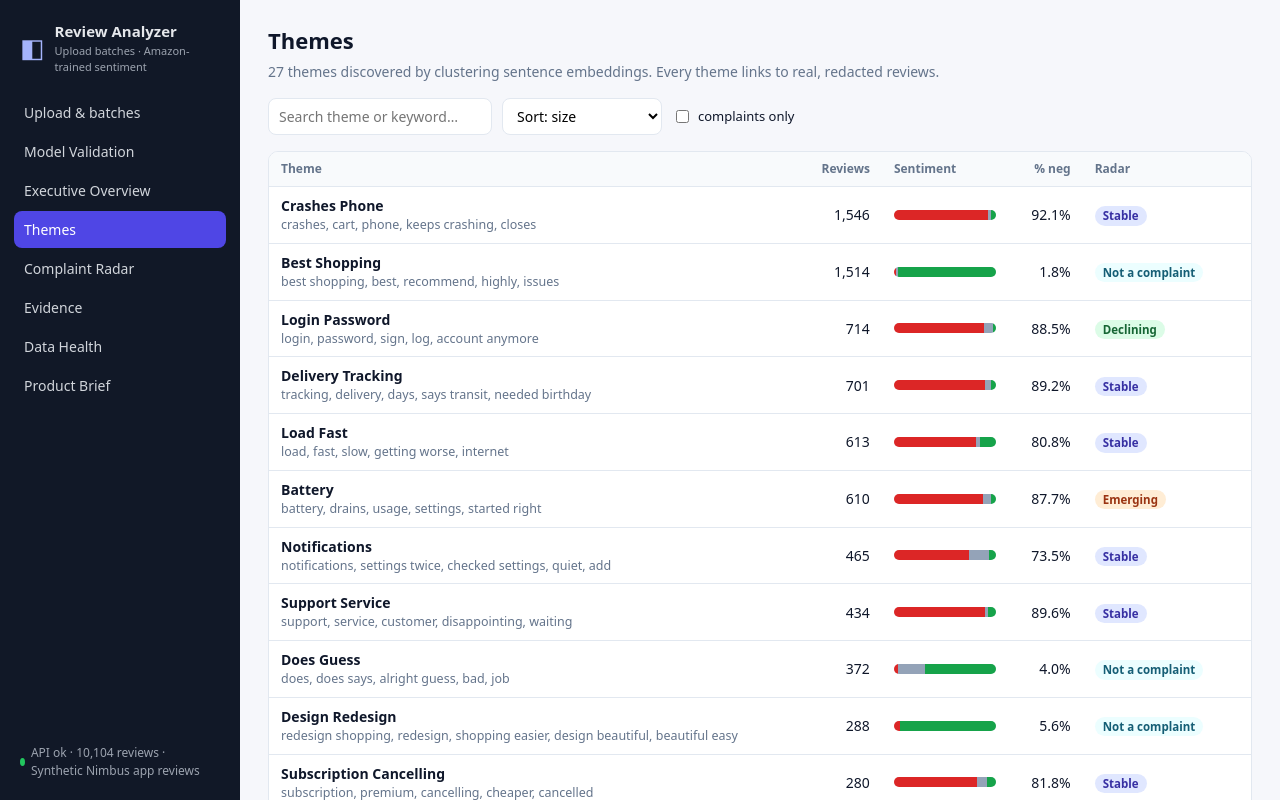
Test case: Themes › filters themes by search text
Check: the heading "Themes" is shown, box [268,25,354,55]
Type "zzzz-no-match" into the field named "Search themes" at {"x": 380, "y": 116}, box [268,98,492,135]
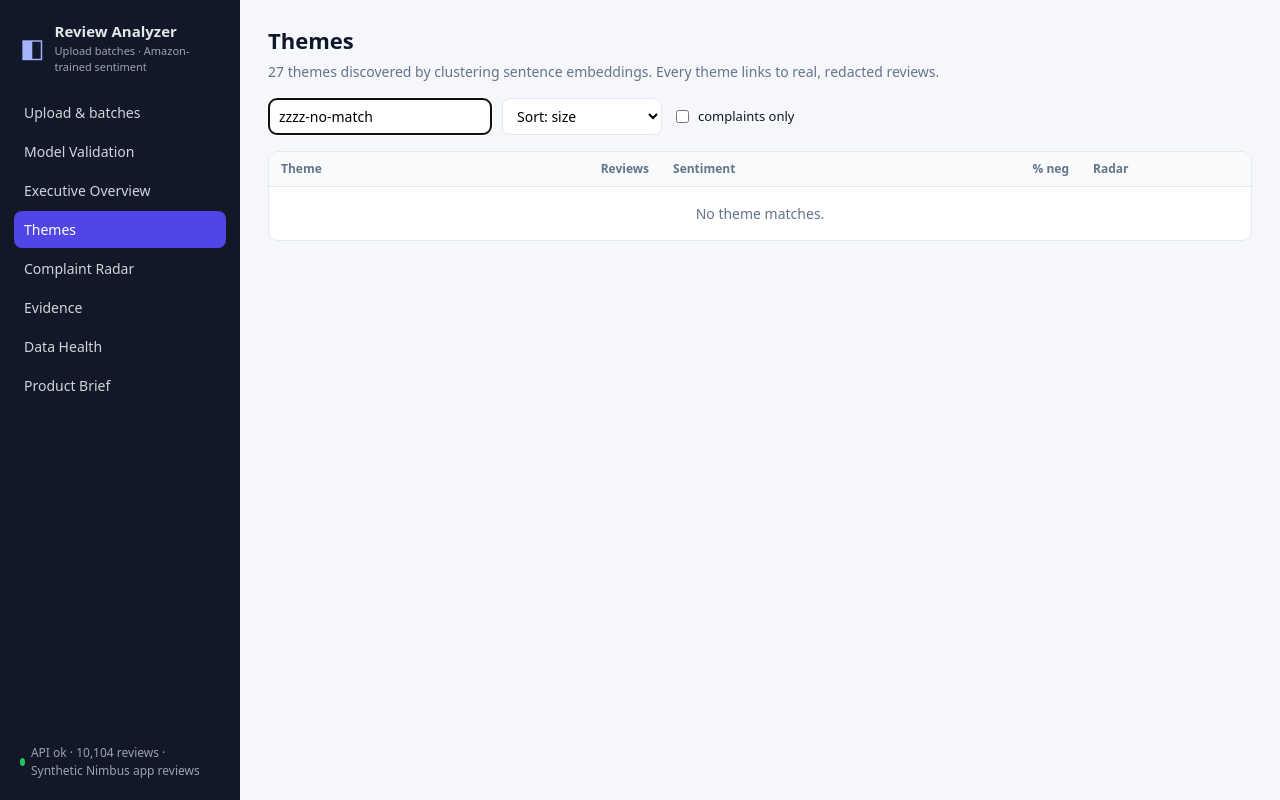
Check: the text "No theme matches." is shown, box [696,204,824,223]
